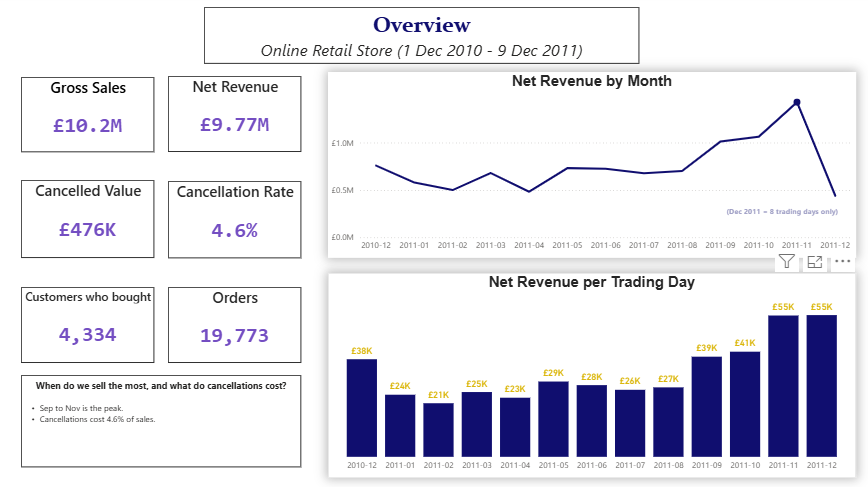

What the dashboard file says about the page in this screenshot:
{"tool":"powerbi","page":{"name":"Overview","canvas":[1280,720],"ordinal":1},"visuals":[{"type":"card","title":"Gross Sales","fields":{"Values":["retail_clean.Gross Sales"]},"box":[46.1,108,195.8,109.4],"z":0},{"type":"card","title":"Net Revenue","fields":{"Values":["retail_clean.Net Revenue"]},"box":[252,108,194.4,110.9],"z":1000},{"type":"card","title":"Cancelled Value","fields":{"Values":["retail_clean.Cancelled Value"]},"box":[46.1,266.4,195.8,113.8],"z":2000},{"type":"card","title":"Cancellation Rate","fields":{"Values":["retail_clean.Cancellation Rate"]},"box":[252,267.8,194.4,112.3],"z":3000},{"type":"card","title":"Orders","fields":{"Values":["retail_clean.Orders"]},"box":[252,440.6,194.4,110.9],"z":4000},{"type":"card","title":"Customers who bought","fields":{"Values":["retail_clean.Customers"]},"box":[46.1,440.6,195.8,110.9],"z":5000},{"type":"lineChart","fields":{"Category":["retail_clean.Month"],"Y":["retail_clean.Net Revenue"]},"box":[485.5,107.5,772.7,272.1],"z":6000},{"type":"columnChart","title":"Net Revenue per Trading Day ","fields":{"Category":["retail_clean.Month"],"Y":["retail_clean.Net per Trading Day"]},"box":[485.5,401.5,772.7,299],"z":7000},{"type":"textbox","box":[388.8,14.4,501.1,80.6],"z":8000},{"type":"textbox","box":[36,600.5,410.4,85],"z":9000},{"type":"textbox","box":[1063.3,295.6,183.1,28.6],"z":10000}]}

Visuals, with their boxes in screenshot pixels (x1, y1, x2, y2), scaled from the page's 1280x720 canvas onto the 868x487 screenshot:
"Gross Sales" card: <region>31, 73, 164, 147</region>
"Net Revenue" card: <region>171, 73, 303, 148</region>
"Cancelled Value" card: <region>31, 180, 164, 257</region>
"Cancellation Rate" card: <region>171, 181, 303, 257</region>
"Orders" card: <region>171, 298, 303, 373</region>
"Customers who bought" card: <region>31, 298, 164, 373</region>
lineChart - retail_clean.Month x retail_clean.Net Revenue: <region>329, 73, 853, 257</region>
"Net Revenue per Trading Day " columnChart: <region>329, 272, 853, 474</region>
textbox: <region>264, 10, 603, 64</region>
textbox: <region>24, 406, 303, 464</region>
textbox: <region>721, 200, 845, 219</region>
